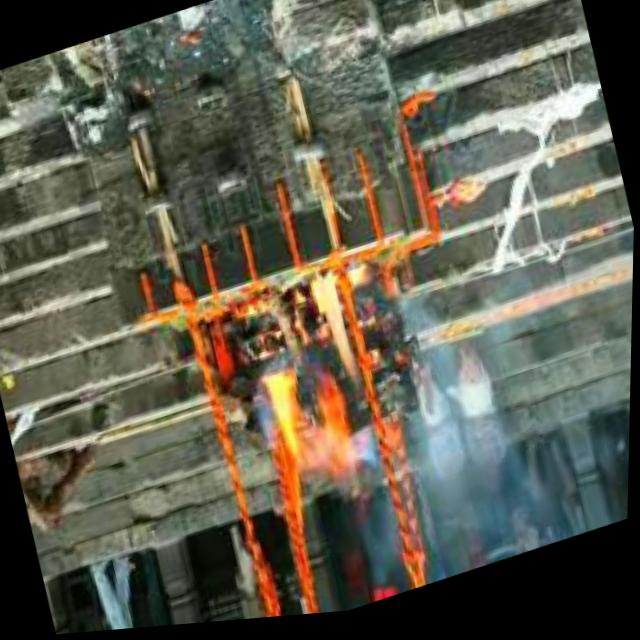Fire: (243, 267, 392, 506)
